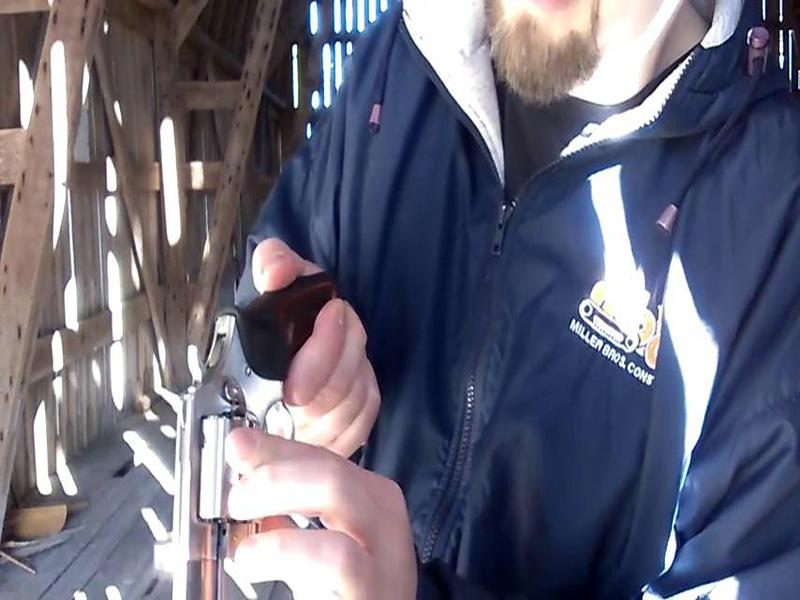Revolver: (128, 278, 295, 600)
